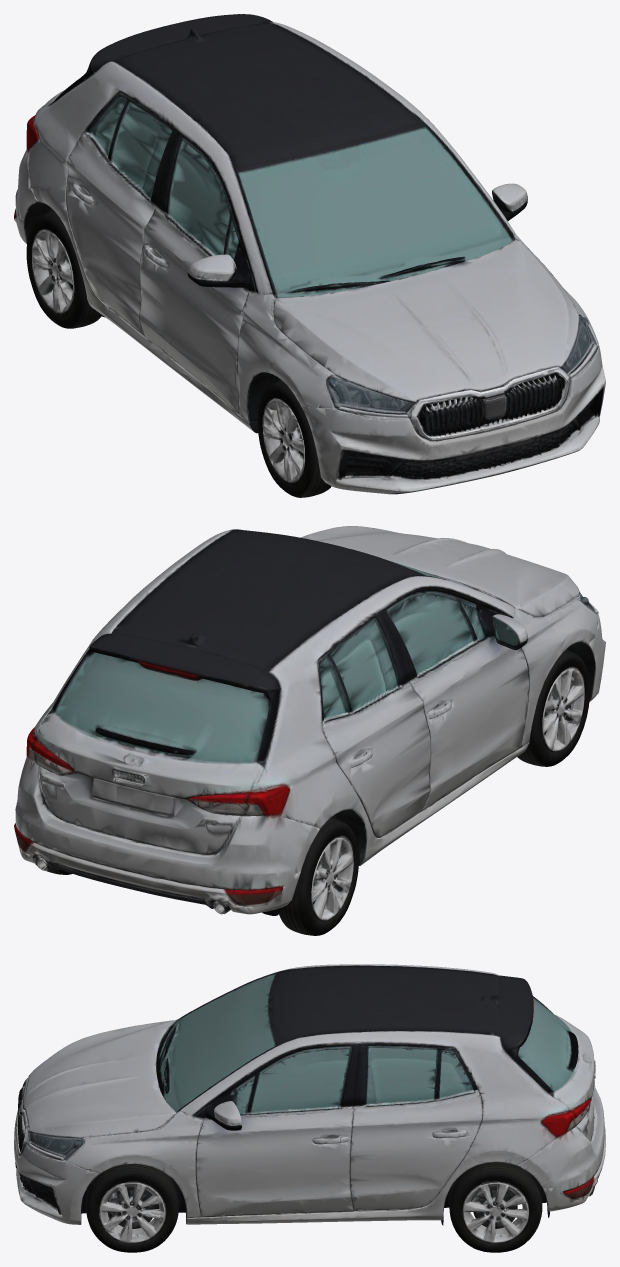
Rendered from car.glb.
3 renders of one model, top to bottom at view 1: azimuth 30°, elevation 25°; view 2: azimuth 150°, elevation 25°; view 3: azimuth 270°, elevation 25°, orthographic. The views are drawn at different scales.
Visible parts, largest first — view 1: tripo_node_f32359ee-749e-462c-bc3b-0a285d11ec8d; view 2: tripo_node_f32359ee-749e-462c-bc3b-0a285d11ec8d; view 3: tripo_node_f32359ee-749e-462c-bc3b-0a285d11ec8d.
Part boxes in pixels (bbox=[...]): tripo_node_f32359ee-749e-462c-bc3b-0a285d11ec8d: bbox=[14, 14, 605, 497]; tripo_node_f32359ee-749e-462c-bc3b-0a285d11ec8d: bbox=[14, 526, 605, 935]; tripo_node_f32359ee-749e-462c-bc3b-0a285d11ec8d: bbox=[14, 964, 605, 1252].
Bounding box in the file's own units: 1.97 × 1.48 × 3.84.
Materials: 1 (1 with a texture image).
